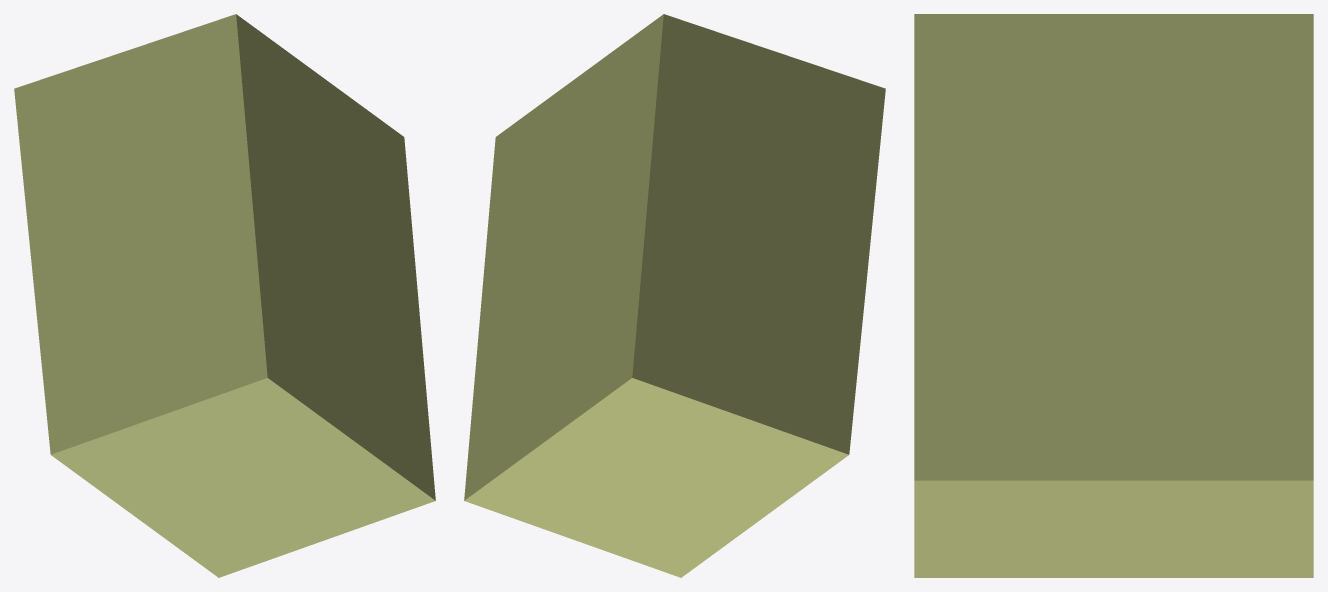
3 renders of one model, left to right at view 1: azimuth 30°, elevation 25°; view 2: azimuth 150°, elevation 25°; view 3: azimuth 270°, elevation 25°, orthographic. The views are drawn at different scales.
Parts seen in each view (by area): view 1: 0_1_1_3_3_1_1_3_3_3_3; view 2: 0_1_1_3_3_1_1_3_3_3_3; view 3: 0_1_1_3_3_1_1_3_3_3_3.
Boxes of the visible parts, x1,y1,x2,y2 form: 0_1_1_3_3_1_1_3_3_3_3: (14,14,435,577); 0_1_1_3_3_1_1_3_3_3_3: (464,14,885,577); 0_1_1_3_3_1_1_3_3_3_3: (914,14,1313,577).
Size of the model in its own units: 7.83 by 11.68 by 9.
